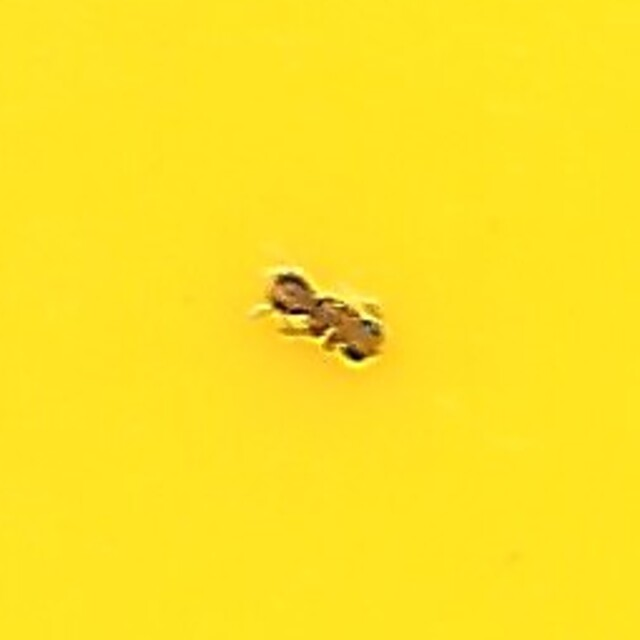Hymenoptera: (251, 267, 389, 373)
